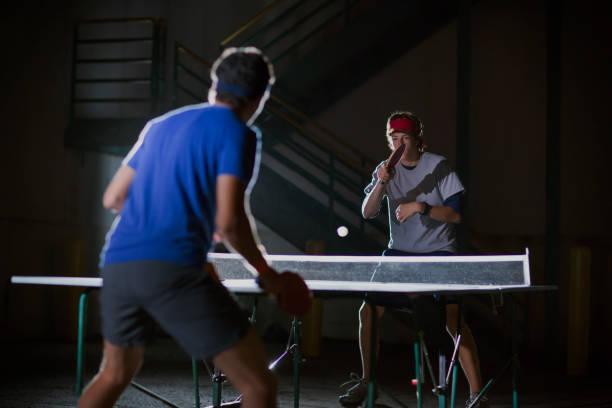ball_pingpong: (337, 226, 348, 237)
